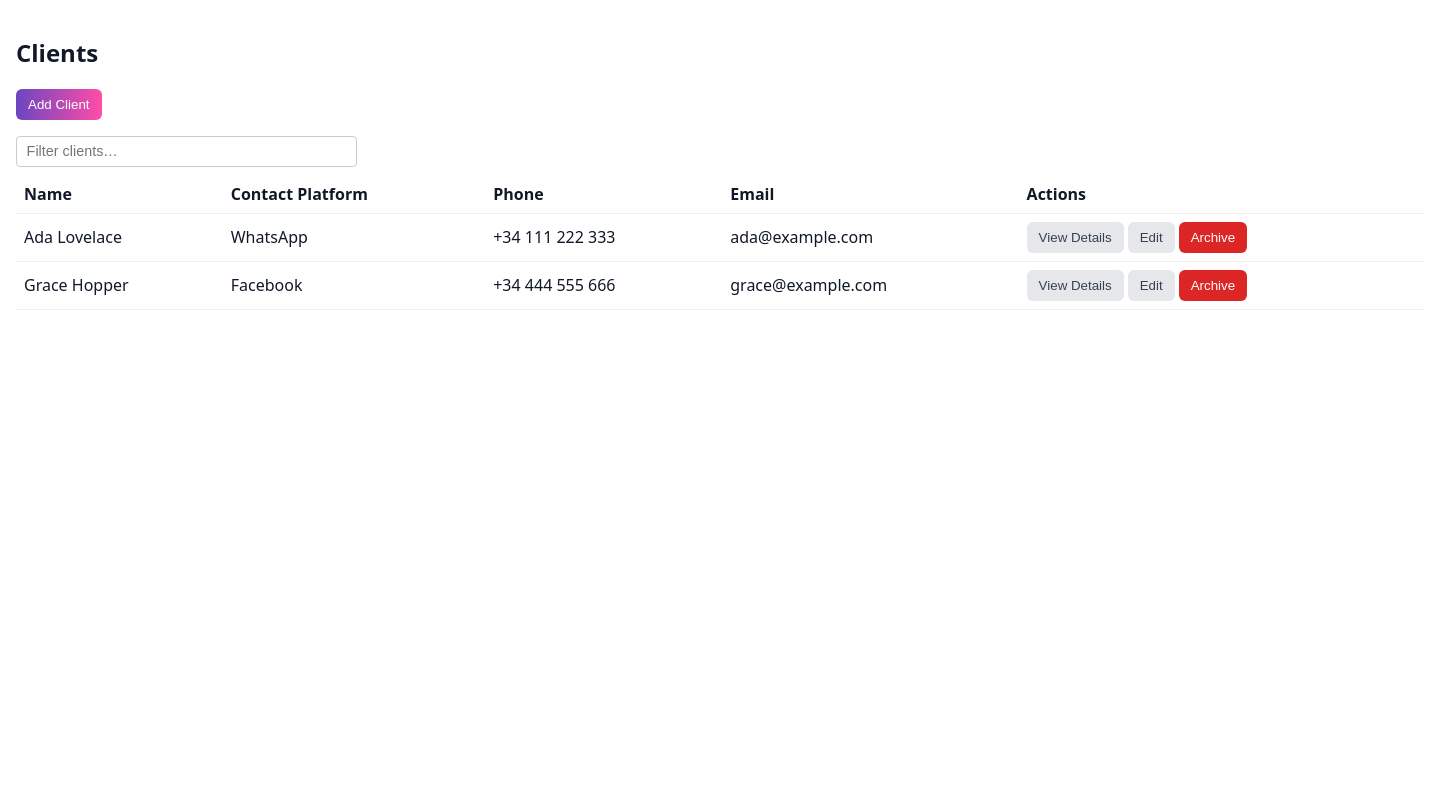
ClientsPageComponent › does not save when the required name is empty
Step 1. Click the button "Add Client" → x=59, y=104, box [16,89,102,120]
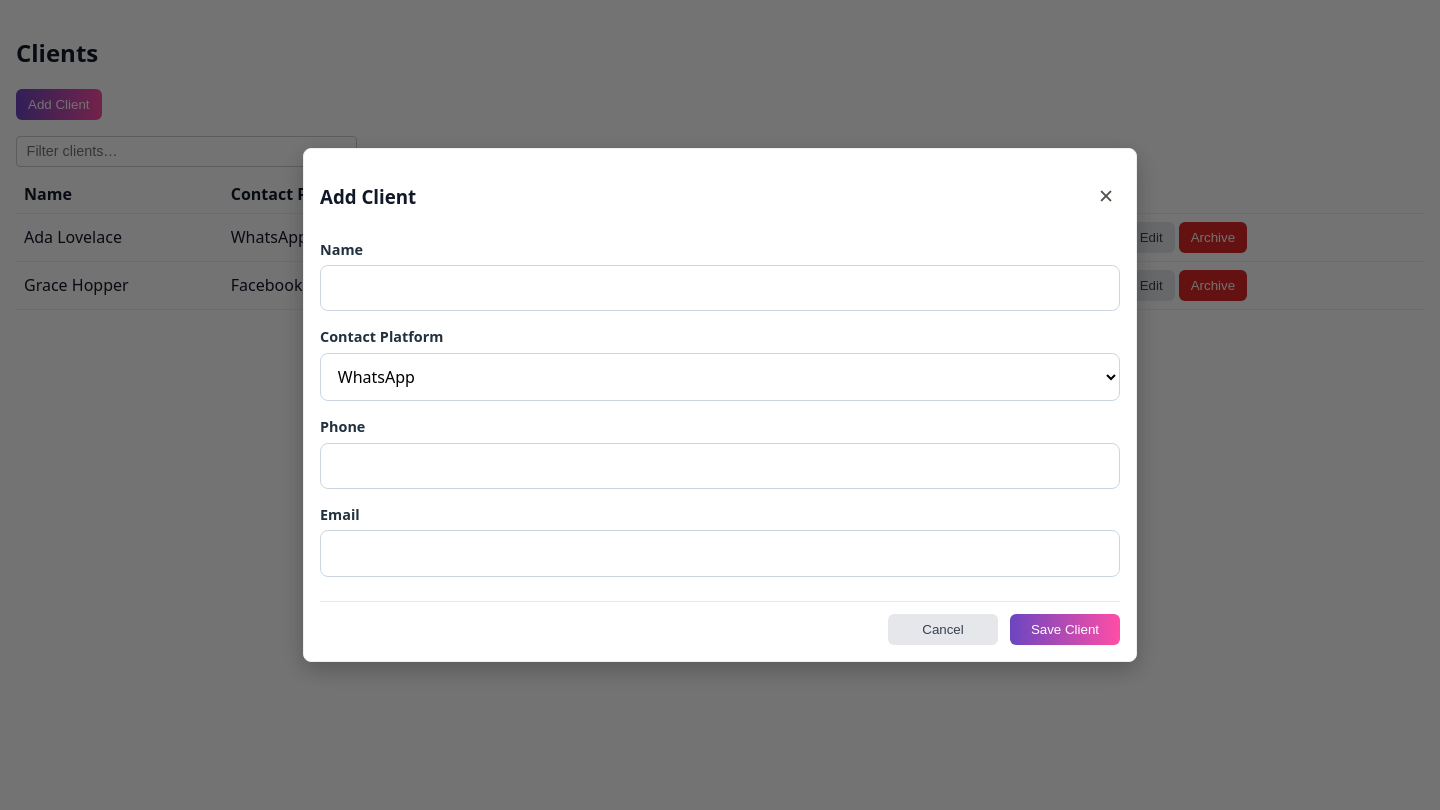
Step 2. Click the button "Save Client" → x=1065, y=629, box [1010,614,1120,645]
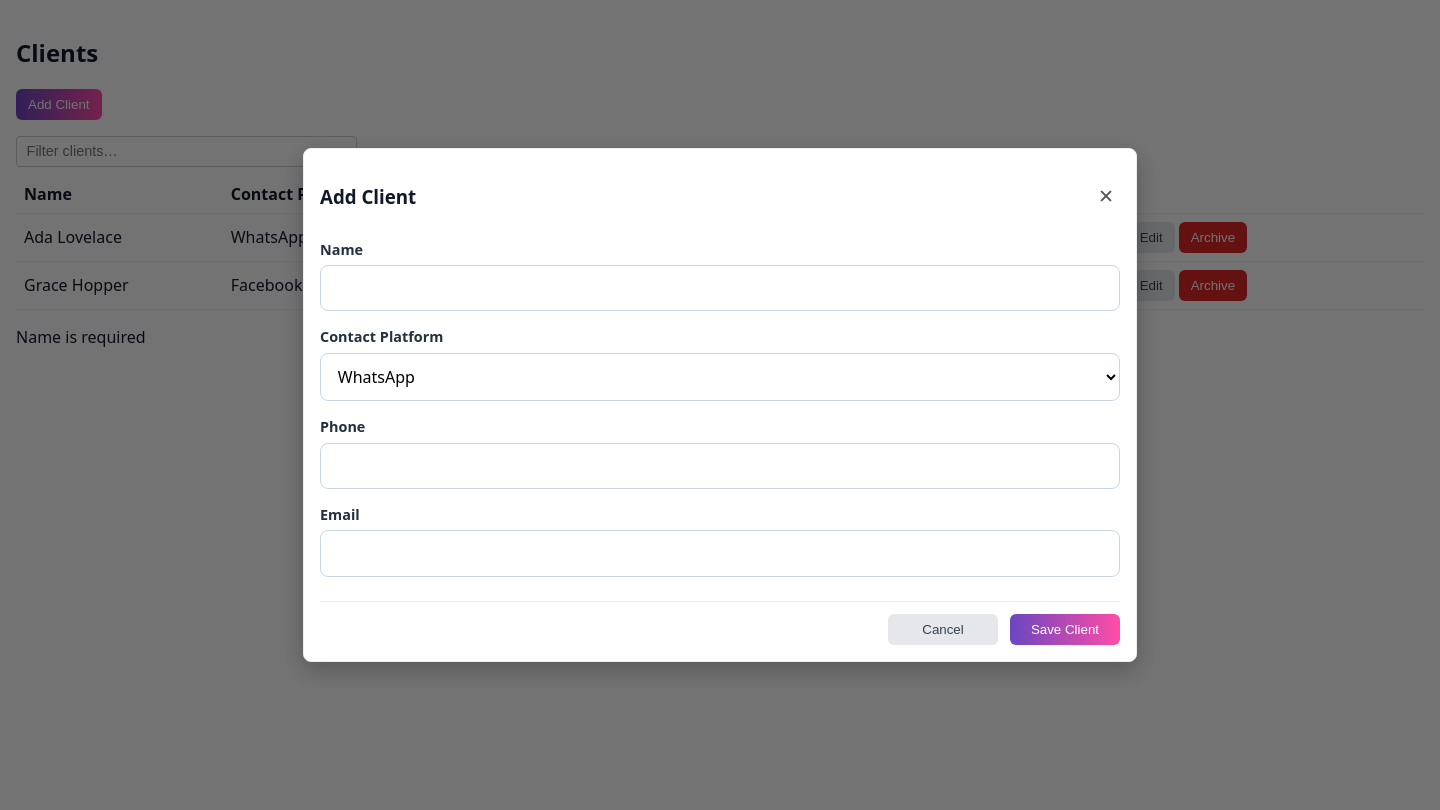
Now the text "Name is required" is shown, box [16,326,146,348]
